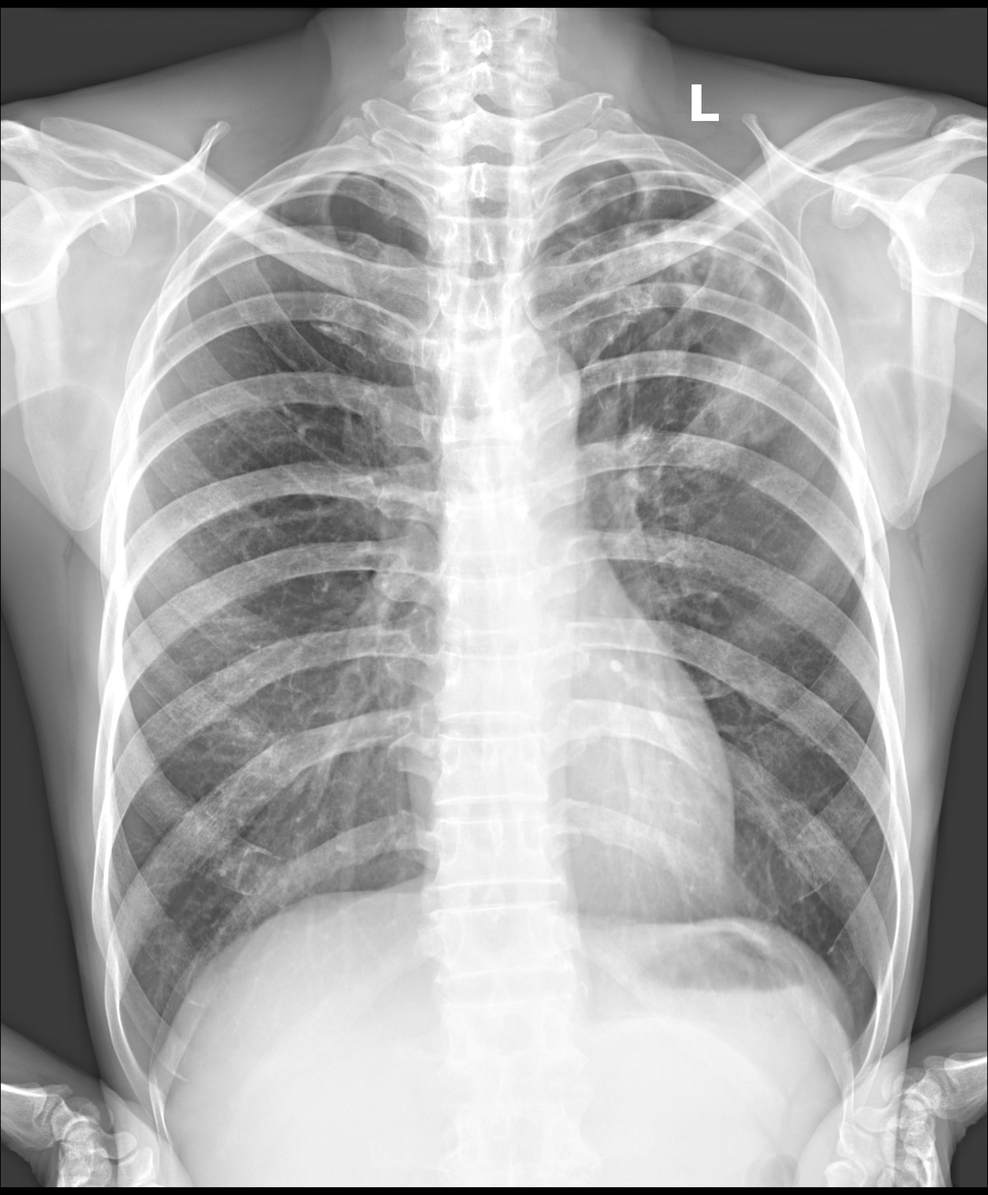Pulmonary fibrosis: (558, 154, 805, 478)
